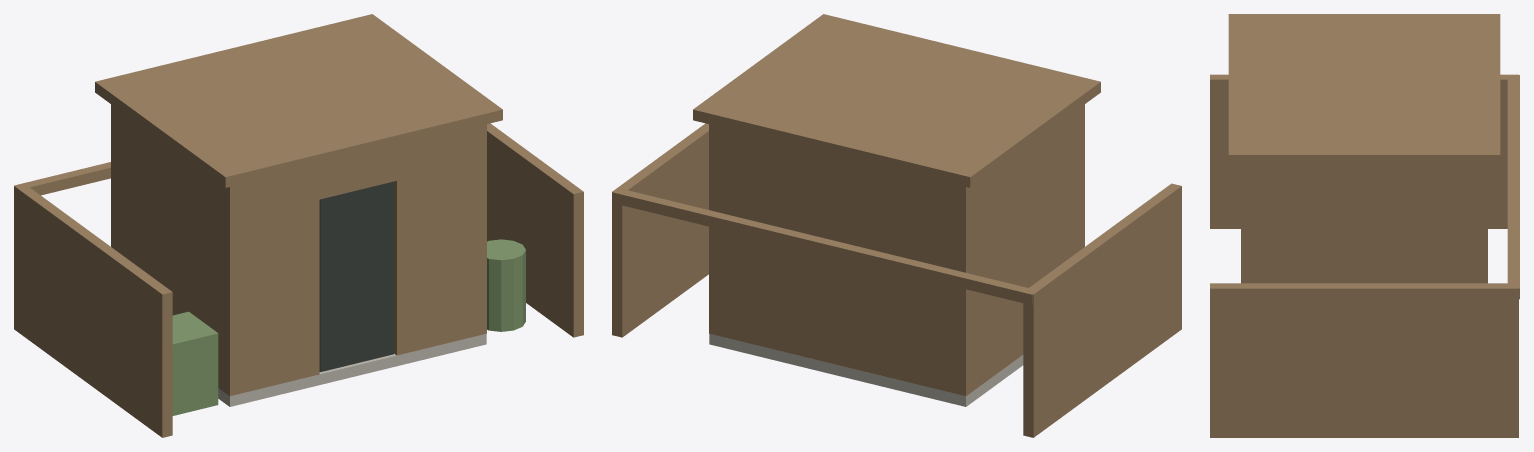
The model's file is zoo-and-safari-park-builder-keeper-compound-d18ee01e__21522.glb.
3 views of the same model, side by side, from view 1: azimuth 30°, elevation 25°; view 2: azimuth 150°, elevation 25°; view 3: azimuth 270°, elevation 25° (orthographic). The views are drawn at different scales.
Visible parts, largest first — view 1: keeper-compound; view 2: keeper-compound; view 3: keeper-compound.
Part boxes in pixels (box(x1,y1,x2,y2)): keeper-compound: box(14, 14, 583, 437); keeper-compound: box(612, 14, 1181, 437); keeper-compound: box(1210, 14, 1519, 437).
Bounding box in the file's own units: 4.92 × 2.64 × 3.01.
